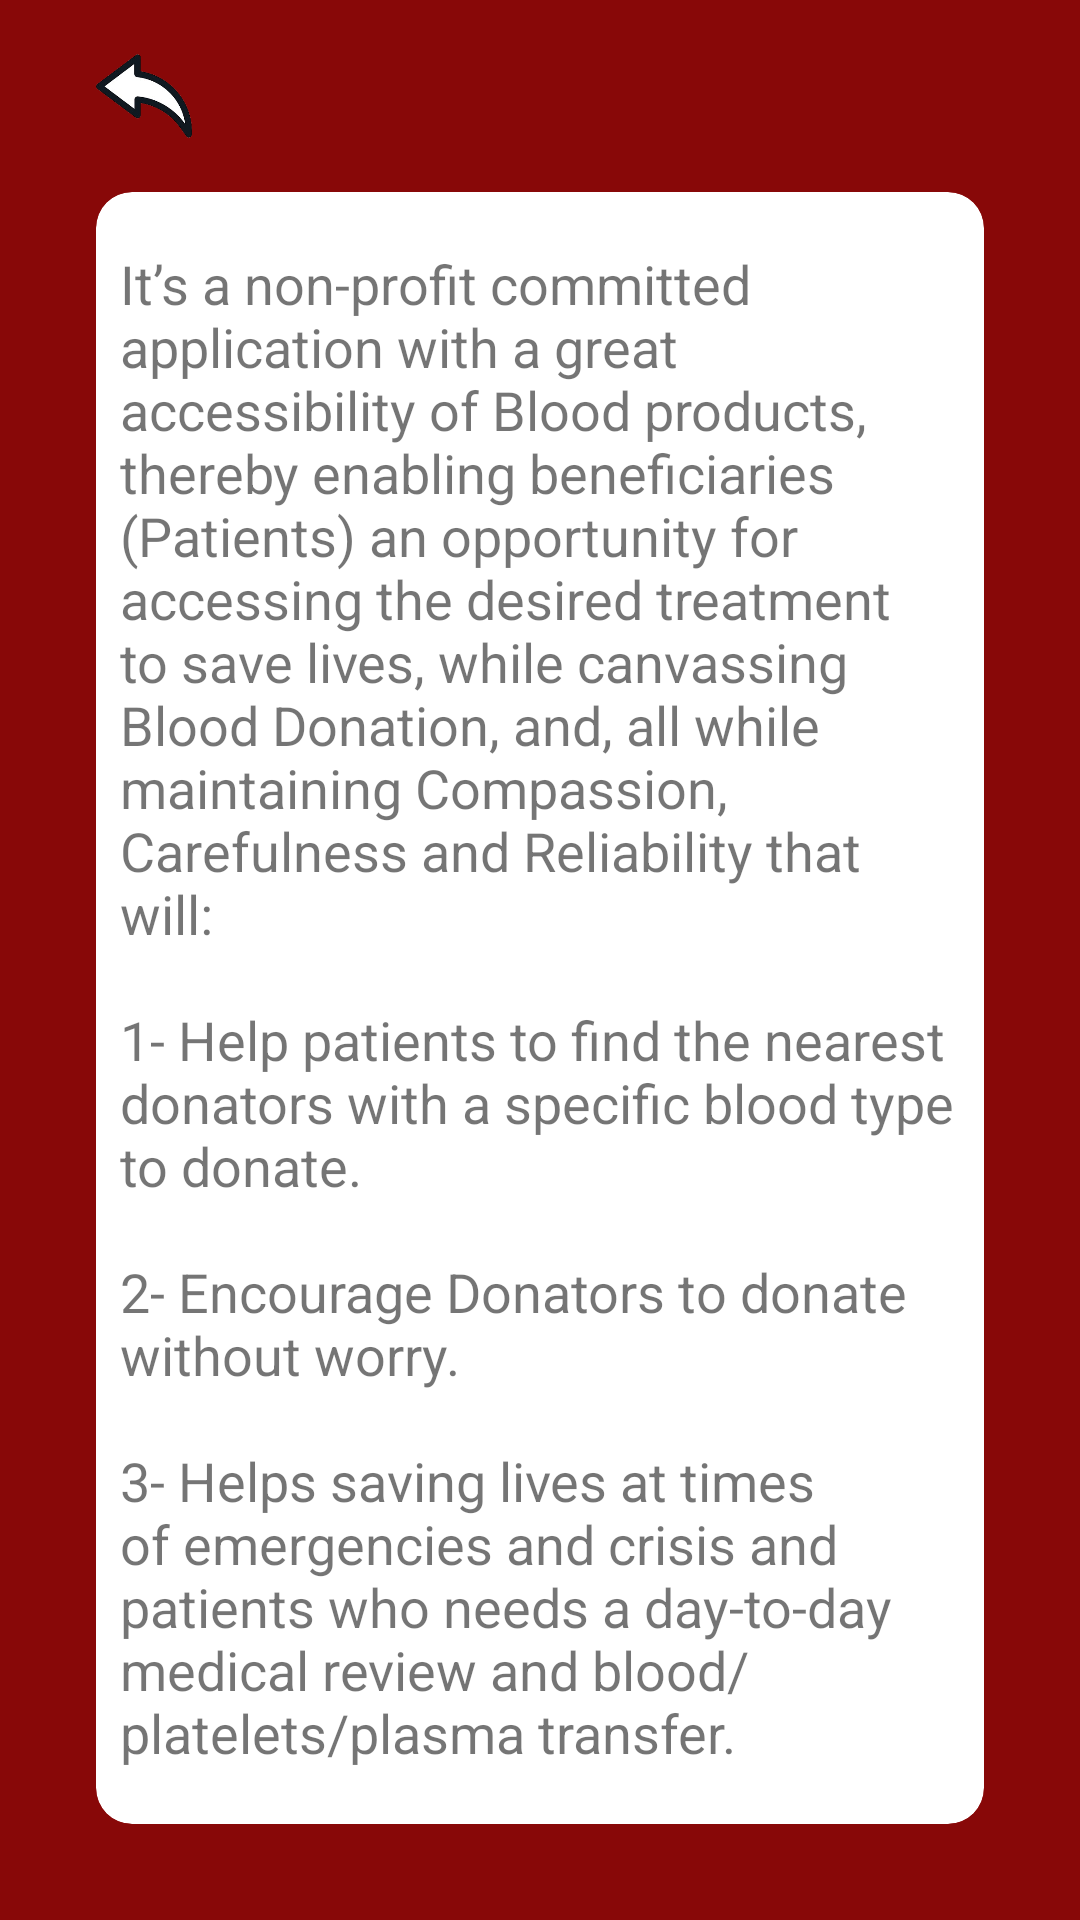

Icons on this 1080 x 1920 Android screen, each with the point to tap as point (x, y):
back: point (144, 96)
